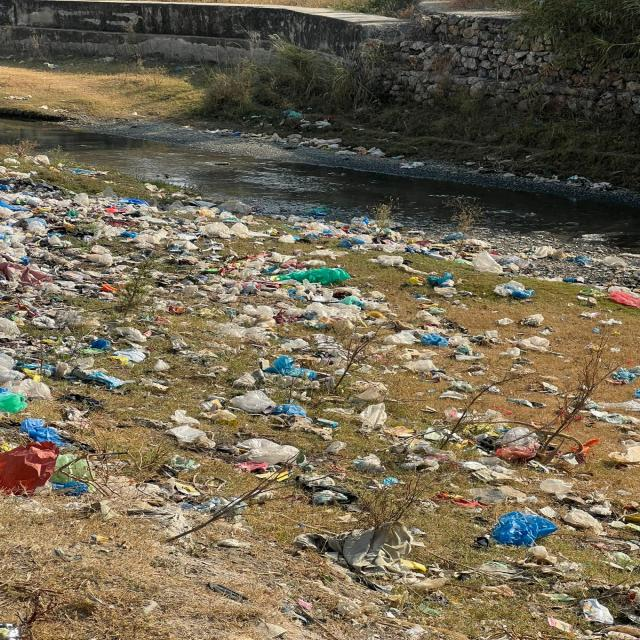garbage: (0, 198, 389, 448), (413, 408, 640, 566), (404, 275, 562, 393), (393, 222, 528, 272)
